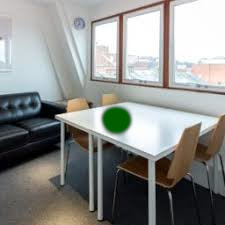focus: (92, 100, 136, 136)
